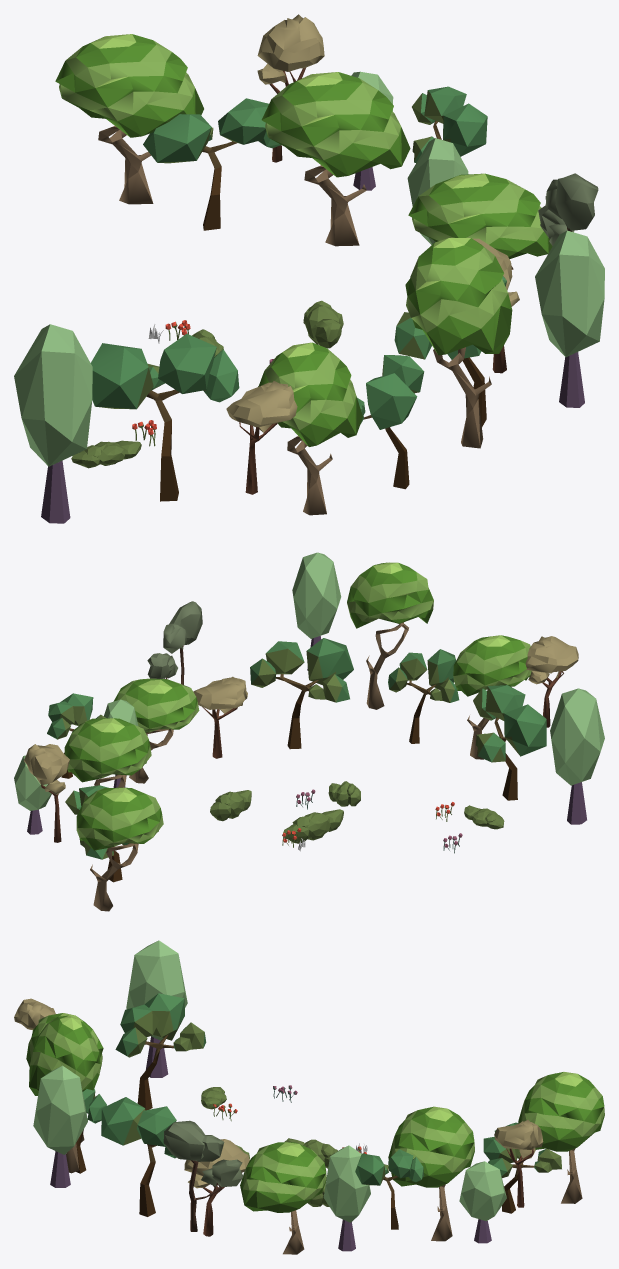
Rendered from nature.fbx.
The picture shows the model from 3 angles, top to bottom: view 1: azimuth 30°, elevation 25°; view 2: azimuth 150°, elevation 25°; view 3: azimuth 270°, elevation 25°; orthographic projection. The views are drawn at different scales.
Parts seen in each view (by area): view 1: big_huge_tree__4_, big_huge_tree__5_, big_huge_tree__2_, Natures_Bush_01__3_, low_poly_tree_woohoo__3_, big_huge_tree__3_, big_huge_tree, Natures_Bush_01, low_poly_tree_woohoo__4_, low_poly_tree_woohoo, low_poly_tree_woohoo__2_, BIRCH_TREE_GREEN_v2__4_ (+8 smaller); view 2: big_huge_tree__2_, big_huge_tree__5_, low_poly_tree_woohoo__1_, Natures_Bush_01__3_, big_huge_tree__4_, low_poly_tree_woohoo__3_, big_huge_tree, big_huge_tree__3_, Natures_Bush_01, low_poly_tree_woohoo, BIRCH_TREE_v1__1_, BIRCH_TREE_GREEN_v2__1_ (+10 smaller); view 3: big_huge_tree__5_, big_huge_tree__4_, big_huge_tree__3_, Natures_Bush_01, low_poly_tree_woohoo__3_, big_huge_tree__2_, low_poly_tree_woohoo__1_, Natures_Bush_01__3_, BIRCH_TREE_v1__1_, Natures_Bush_01__5_, Natures_Bush_01__6_, low_poly_tree_woohoo__2_ (+8 smaller).
Boxes of the visible parts, x1=… form: big_huge_tree__4_: x1=261, y1=72, x2=410, y2=246; big_huge_tree__5_: x1=55, y1=34, x2=203, y2=204; big_huge_tree__2_: x1=405, y1=237, x2=512, y2=448; Natures_Bush_01__3_: x1=14, y1=324, x2=92, y2=523; low_poly_tree_woohoo__3_: x1=90, y1=334, x2=239, y2=501; big_huge_tree__3_: x1=408, y1=173, x2=552, y2=269; big_huge_tree: x1=258, y1=342, x2=362, y2=515; Natures_Bush_01: x1=535, y1=230, x2=604, y2=407; low_poly_tree_woohoo__4_: x1=143, y1=98, x2=280, y2=230; low_poly_tree_woohoo: x1=357, y1=355, x2=424, y2=489; low_poly_tree_woohoo__2_: x1=412, y1=86, x2=487, y2=162; BIRCH_TREE_GREEN_v2__4_: x1=257, y1=14, x2=324, y2=162; big_huge_tree__2_: x1=347, y1=562, x2=433, y2=709; big_huge_tree__5_: x1=76, y1=787, x2=163, y2=911; low_poly_tree_woohoo__1_: x1=250, y1=638, x2=353, y2=749; Natures_Bush_01__3_: x1=550, y1=688, x2=604, y2=824; big_huge_tree__4_: x1=64, y1=718, x2=151, y2=787; low_poly_tree_woohoo__3_: x1=473, y1=685, x2=546, y2=800; big_huge_tree: x1=453, y1=635, x2=531, y2=759; big_huge_tree__3_: x1=113, y1=678, x2=199, y2=783; Natures_Bush_01: x1=292, y1=552, x2=341, y2=670; low_poly_tree_woohoo: x1=388, y1=649, x2=459, y2=743; BIRCH_TREE_v1__1_: x1=147, y1=601, x2=202, y2=684; BIRCH_TREE_GREEN_v2__1_: x1=525, y1=636, x2=578, y2=727; big_huge_tree__5_: x1=518, y1=1072, x2=604, y2=1203; big_huge_tree__4_: x1=388, y1=1106, x2=474, y2=1241; big_huge_tree__3_: x1=240, y1=1142, x2=326, y2=1254; Natures_Bush_01: x1=33, y1=1065, x2=87, y2=1187; low_poly_tree_woohoo__3_: x1=115, y1=993, x2=206, y2=1110; big_huge_tree__2_: x1=29, y1=1015, x2=100, y2=1173; low_poly_tree_woohoo__1_: x1=101, y1=1097, x2=176, y2=1216; Natures_Bush_01__3_: x1=126, y1=940, x2=187, y2=1077; BIRCH_TREE_v1__1_: x1=163, y1=1120, x2=243, y2=1231; Natures_Bush_01__5_: x1=323, y1=1145, x2=370, y2=1251; Natures_Bush_01__6_: x1=459, y1=1161, x2=506, y2=1243; low_poly_tree_woohoo__2_: x1=355, y1=1149, x2=423, y2=1229.
Bounding box in the file's own units: 2533 × 974 × 3022.
